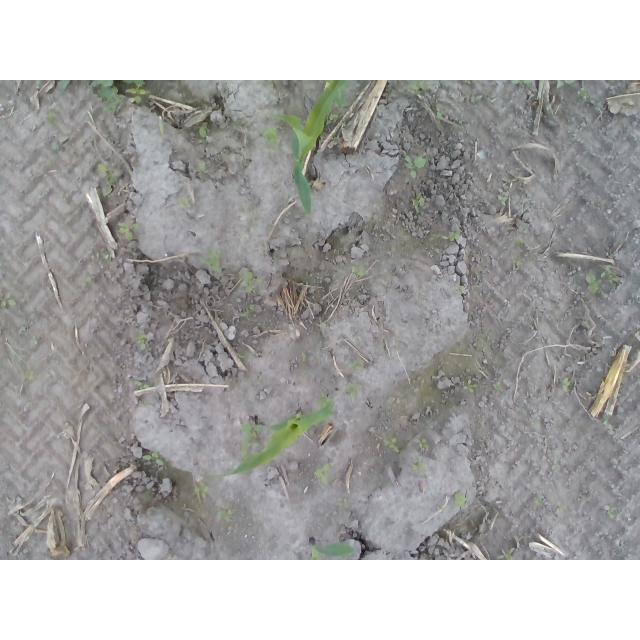Maize: (273, 80, 353, 217), (206, 398, 339, 480), (306, 537, 355, 560)
Weeds: (585, 264, 621, 294), (92, 80, 121, 113), (95, 159, 117, 197), (122, 80, 151, 106), (197, 245, 223, 272), (403, 153, 431, 178), (327, 95, 349, 125), (251, 126, 281, 146), (579, 86, 602, 110), (243, 271, 264, 296), (430, 227, 463, 242), (240, 422, 252, 459), (117, 222, 139, 242), (313, 463, 332, 484), (406, 80, 430, 96), (191, 122, 209, 143), (414, 192, 431, 214), (143, 452, 168, 466), (383, 437, 401, 454), (217, 503, 233, 521), (240, 303, 256, 321), (0, 291, 16, 309), (470, 95, 497, 105), (351, 261, 369, 276), (191, 482, 209, 497), (509, 80, 535, 90), (135, 332, 148, 352), (454, 495, 471, 510), (131, 379, 154, 390), (412, 460, 427, 476), (195, 160, 209, 177), (345, 384, 359, 401), (464, 379, 481, 393), (58, 80, 72, 96), (554, 80, 576, 90), (50, 142, 62, 160), (531, 495, 545, 510), (252, 424, 266, 439), (19, 369, 34, 382), (177, 196, 192, 209), (560, 376, 571, 393), (348, 359, 365, 369), (336, 497, 349, 510), (511, 255, 525, 267), (497, 192, 508, 207), (419, 487, 434, 497), (416, 438, 429, 449), (81, 277, 94, 288), (47, 111, 57, 125), (320, 393, 329, 407), (78, 80, 90, 89), (160, 124, 169, 136), (31, 335, 41, 345), (608, 509, 617, 519), (515, 238, 525, 247), (231, 120, 241, 129), (34, 80, 43, 89), (494, 383, 503, 392), (434, 111, 446, 117), (505, 552, 513, 561), (455, 287, 465, 294), (464, 81, 473, 88), (105, 254, 112, 262), (124, 464, 128, 469)
